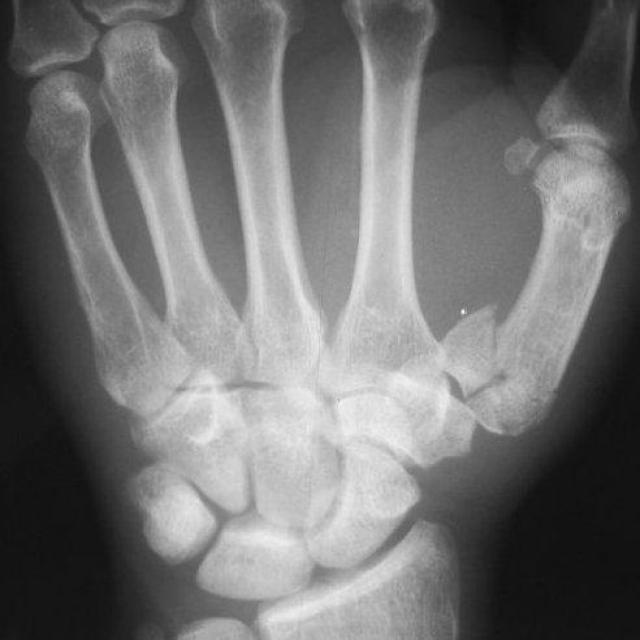fracture: (440, 318, 518, 421)
